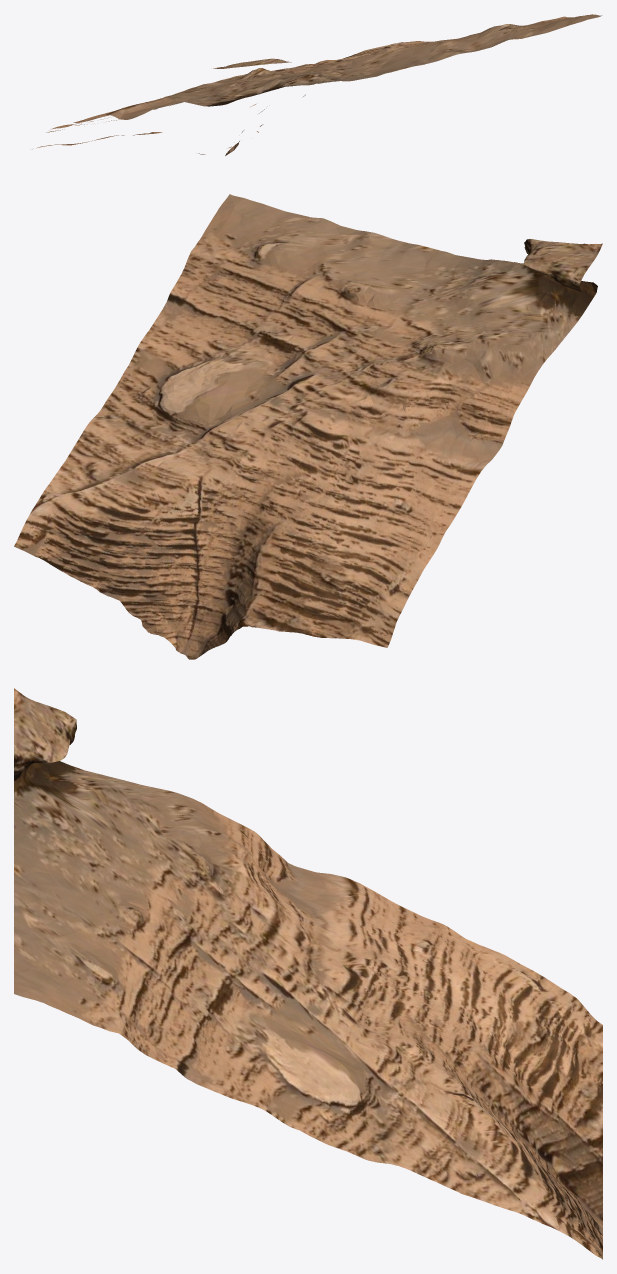
3 renders of one model, top to bottom at view 1: azimuth 30°, elevation 25°; view 2: azimuth 150°, elevation 25°; view 3: azimuth 270°, elevation 25°, orthographic. The views are drawn at different scales.
Size of the model in its own units: 1.04 by 0.8193 by 1.04.
3 materials, 3 textured.
